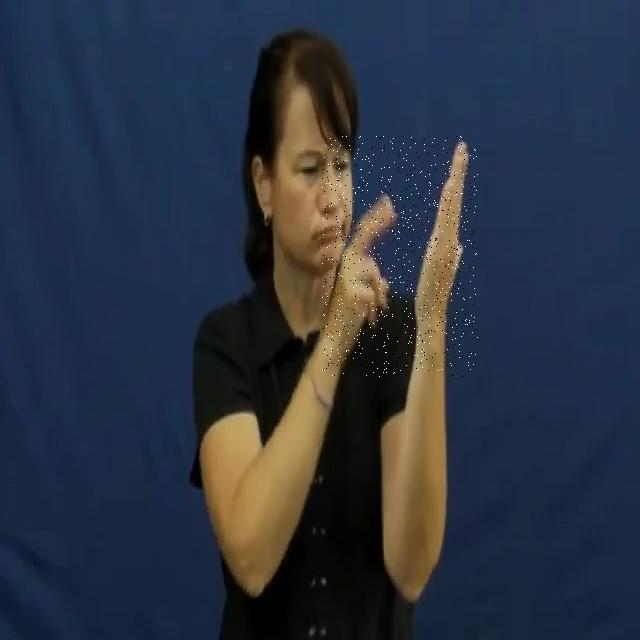menu: (322, 136, 478, 377)
